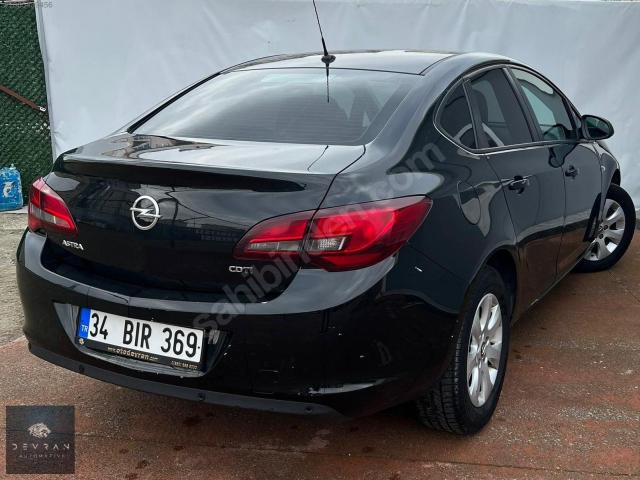plaka: (75, 308, 204, 371)
